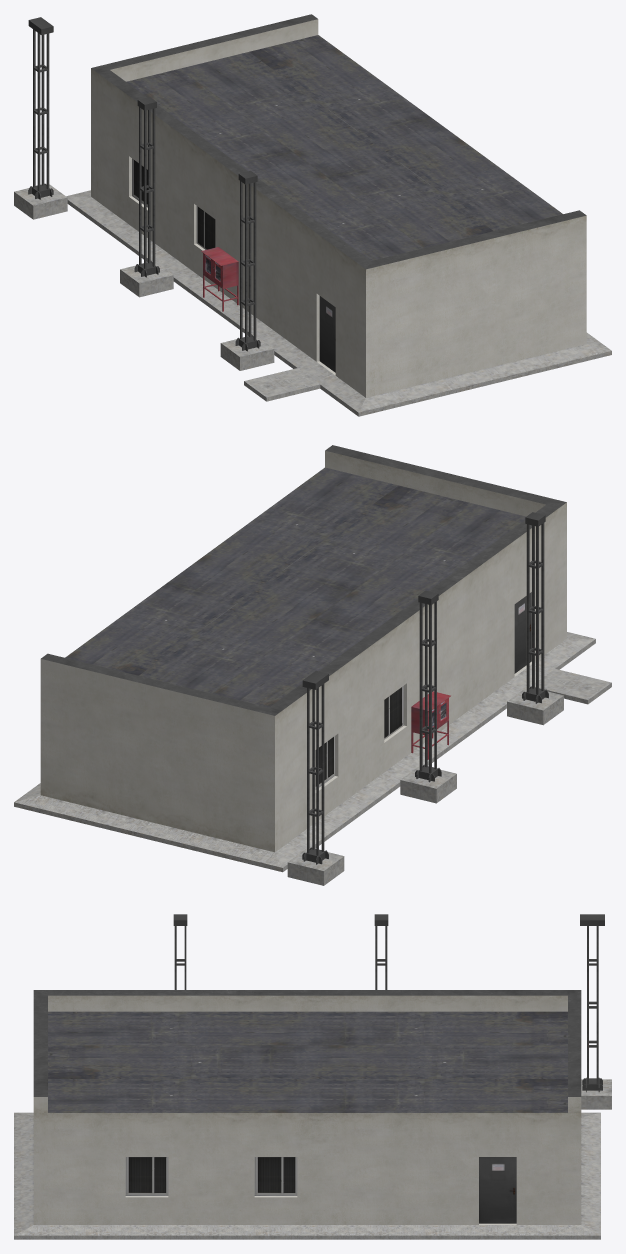
Rendered from plant-building28.glb.
3 renders of one model, top to bottom at view 1: azimuth 30°, elevation 25°; view 2: azimuth 150°, elevation 25°; view 3: azimuth 270°, elevation 25°, orthographic. The views are drawn at different scales.
Parts seen in each view (by area): view 1: Object8933267; view 2: Object8933267; view 3: Object8933267.
Boxes of the visible parts, box(x1,y1,x2,y2) form: Object8933267: box(14, 14, 611, 416); Object8933267: box(14, 445, 611, 885); Object8933267: box(14, 914, 611, 1239).
Size of the model in its own units: 10.39 by 6.06 by 17.61.
1 material, 1 textured.
